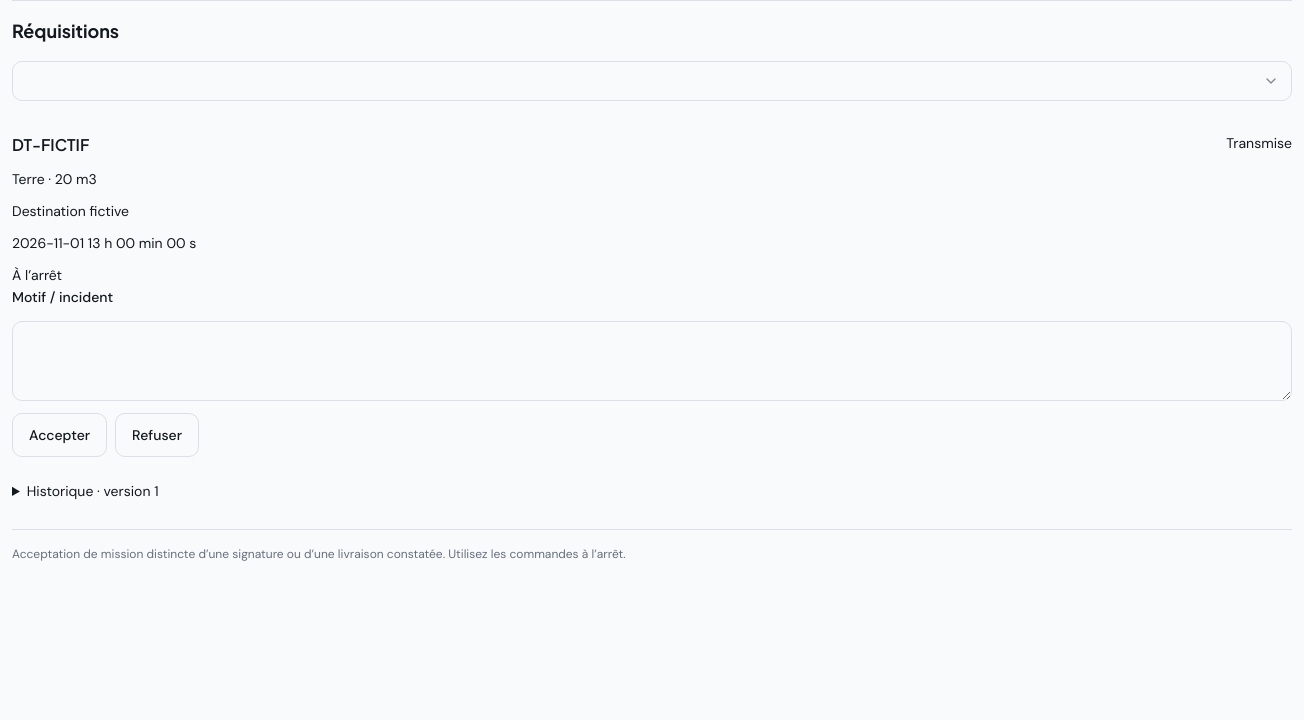
Test: éditeurs sur dépendances injectées — sans requête réelle › affiche les boutons réellement autorisés et un refus de mutation honnête
Click the button "Accepter".
click(60, 435)  # box [12, 413, 107, 457]
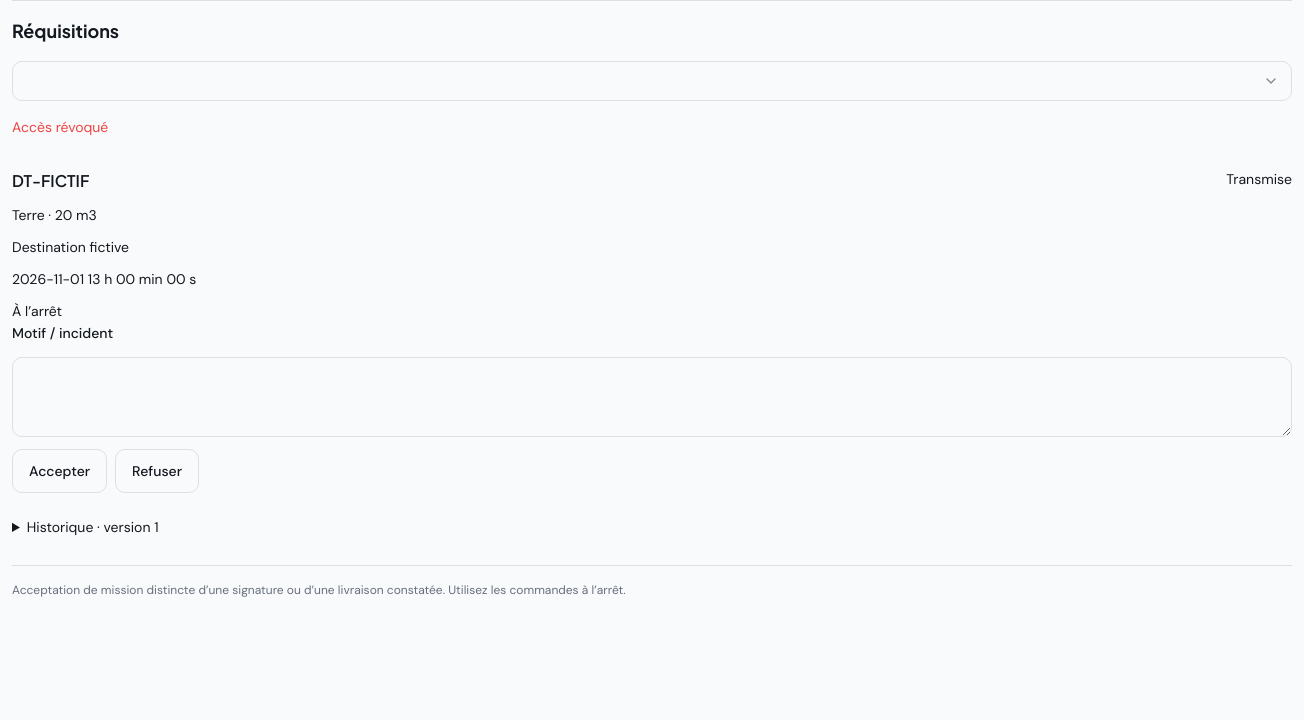
Check: the message "Accès révoqué" is shown, box [12, 118, 108, 136]
